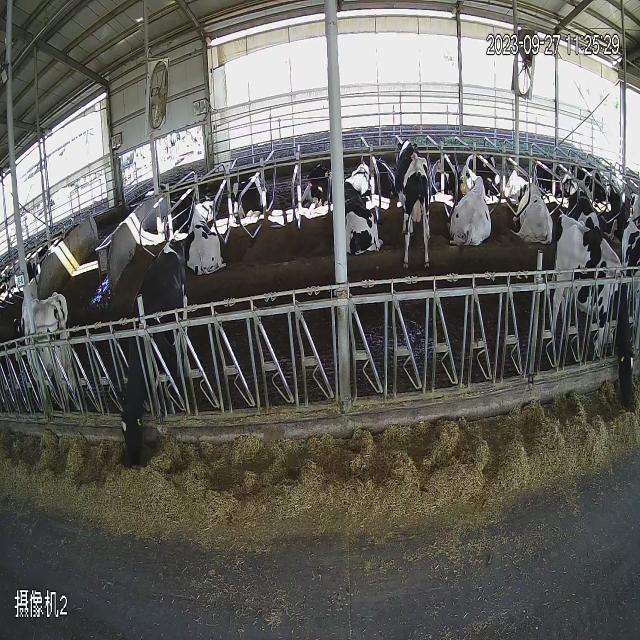feeding: (548, 212, 640, 456), (114, 217, 192, 498)
lying down: (184, 131, 386, 273), (438, 124, 630, 246)
standing: (392, 127, 437, 278)
